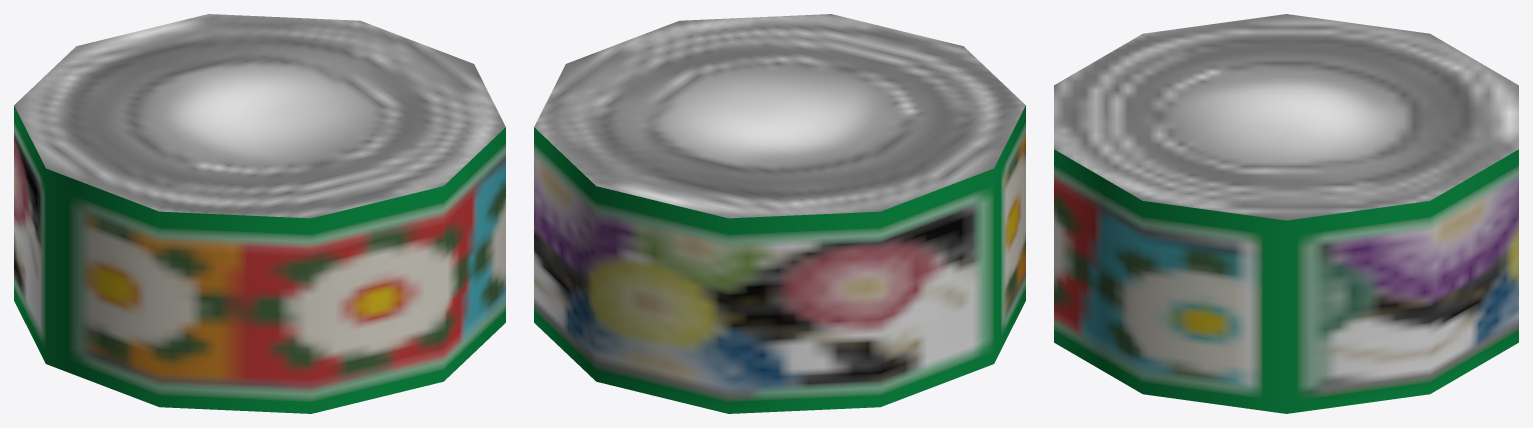
Rendered from giftgoods084f.fbx.
The picture shows the model from 3 angles, left to right: view 1: azimuth 30°, elevation 25°; view 2: azimuth 150°, elevation 25°; view 3: azimuth 270°, elevation 25°; orthographic projection.
Parts seen in each view (by area): view 1: giftgoods084f; view 2: giftgoods084f; view 3: giftgoods084f.
Part boxes in pixels (x1,y1,x2,y2): giftgoods084f: [14, 14, 505, 413]; giftgoods084f: [534, 14, 1025, 413]; giftgoods084f: [1054, 14, 1518, 413].
Bounding box in the file's own units: 0.1255 × 0.0548 × 0.1193.
